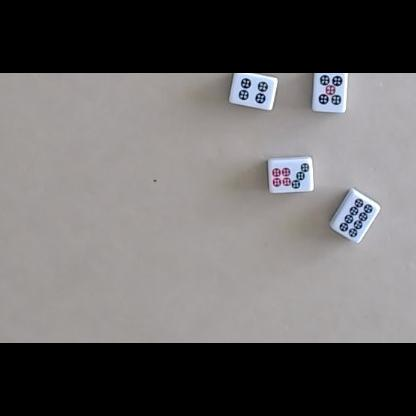4p: (238, 77, 269, 104)
5p: (318, 73, 344, 106)
7p: (272, 162, 309, 190)
8p: (339, 198, 373, 238)
